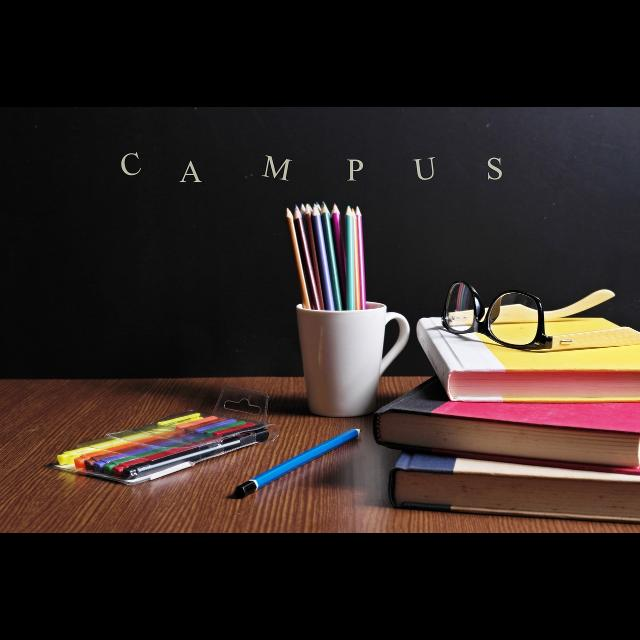glasses: (438, 280, 640, 352)
